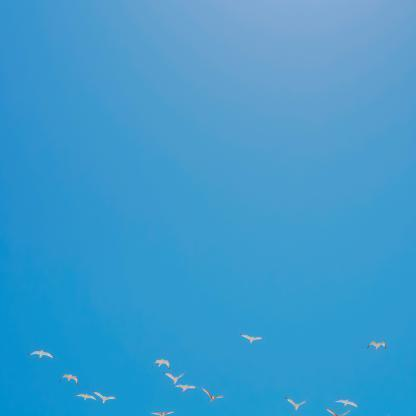bird: (94, 392, 116, 404), (202, 388, 224, 400), (240, 334, 264, 345), (164, 372, 184, 384), (30, 350, 54, 359), (288, 399, 306, 411), (335, 399, 358, 408), (326, 408, 350, 416), (368, 340, 387, 349), (62, 374, 78, 384), (176, 384, 196, 391), (155, 358, 170, 367), (76, 394, 96, 400), (152, 412, 176, 416)
